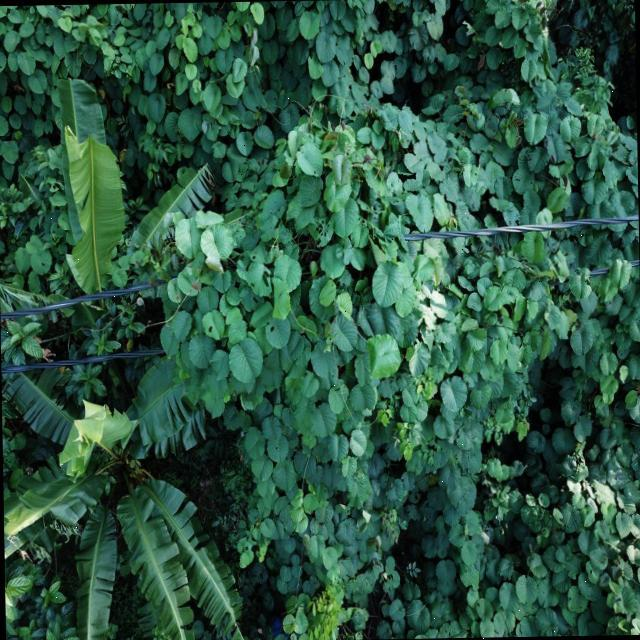critical vegetation: (143, 176, 598, 451)
